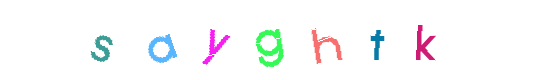A: (174, 0, 254, 80)
G: (230, 0, 310, 80)
H: (238, 0, 318, 80)
K: (382, 0, 462, 80)
S: (120, 0, 200, 80)
T: (299, 0, 379, 80)
Y: (184, 0, 264, 80)
